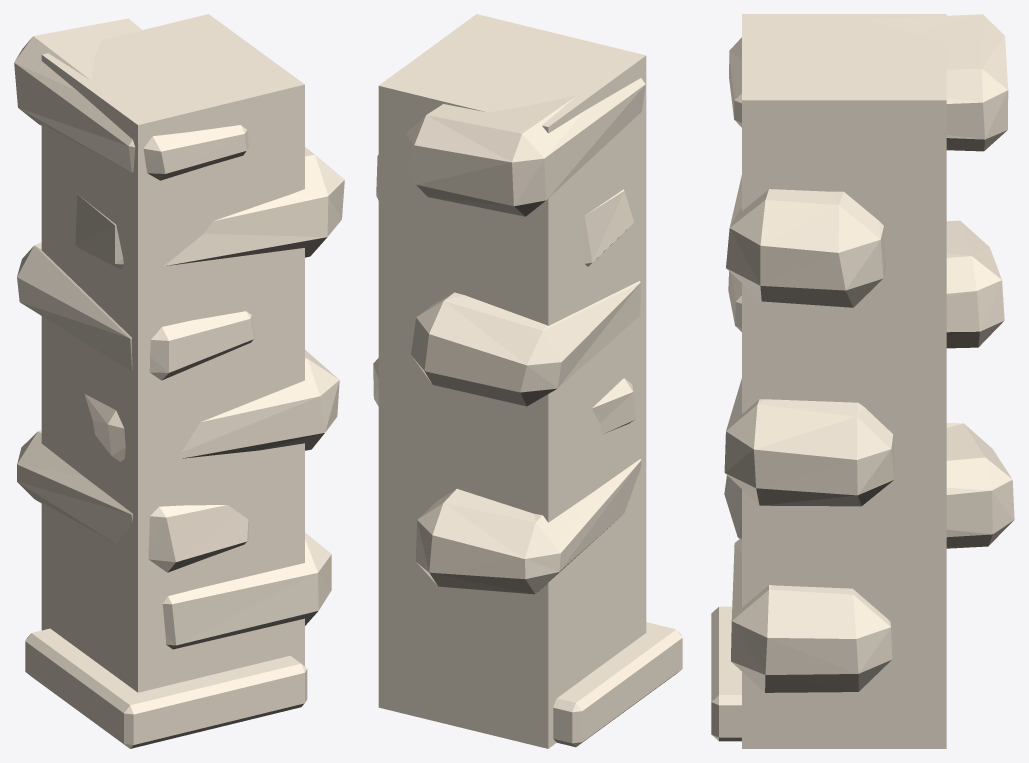
Rendered from SM_VK_Def_CornerUp.fbx.
The picture shows the model from 3 angles, left to right: view 1: azimuth 30°, elevation 25°; view 2: azimuth 150°, elevation 25°; view 3: azimuth 270°, elevation 25°; orthographic projection. The views are drawn at different scales.
Visible parts, largest first — view 1: SM_VK_Def_CornerUp.001; view 2: SM_VK_Def_CornerUp.001; view 3: SM_VK_Def_CornerUp.001.
Part boxes in pixels (x1,y1,x2,y2): SM_VK_Def_CornerUp.001: (14, 14, 344, 748); SM_VK_Def_CornerUp.001: (373, 14, 682, 748); SM_VK_Def_CornerUp.001: (711, 14, 1014, 748).
Bounding box in the file's own units: 1.17 × 2.82 × 1.19.
